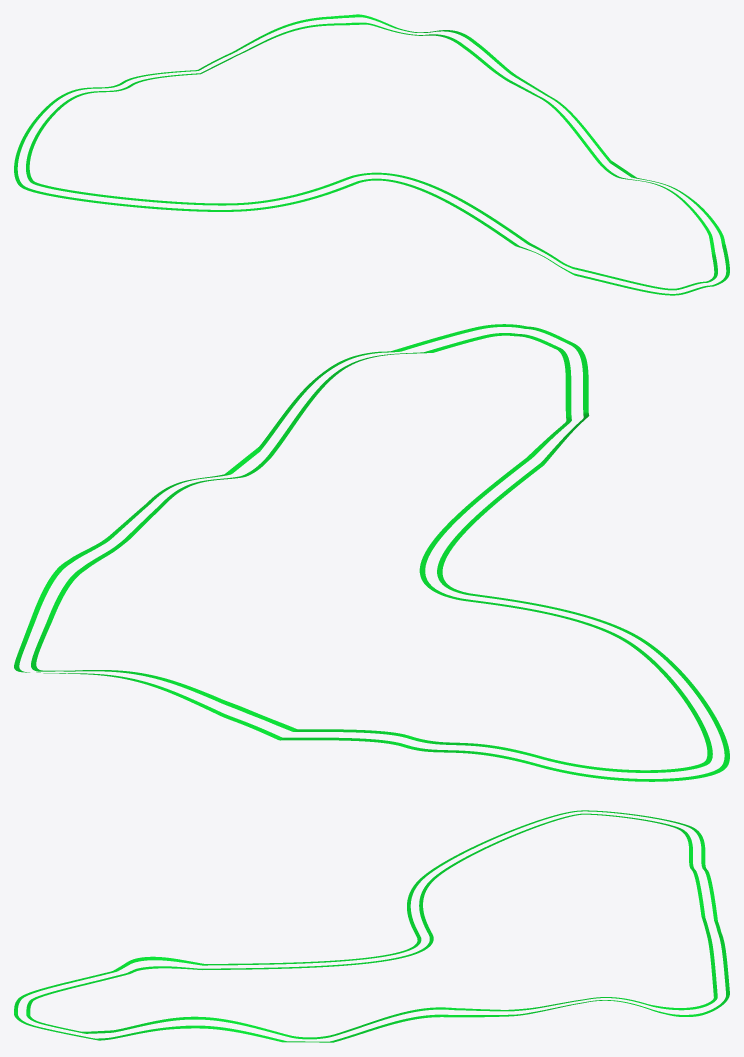
File: OTW1Grass.fbx
3 renders of one model, top to bottom at view 1: azimuth 30°, elevation 25°; view 2: azimuth 150°, elevation 25°; view 3: azimuth 270°, elevation 25°, orthographic. The views are drawn at different scales.
Visible parts, largest first — view 1: GrassVerge; view 2: GrassVerge; view 3: GrassVerge.
Part boxes in pixels (x1,y1,x2,y2): GrassVerge: (14, 14, 729, 295); GrassVerge: (14, 324, 729, 781); GrassVerge: (14, 810, 729, 1042).
Bounding box in the file's own units: 90786 × 6479 × 116121.
